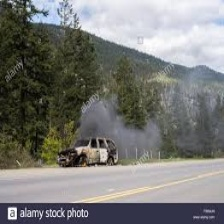smoke: (83, 111, 158, 153)
